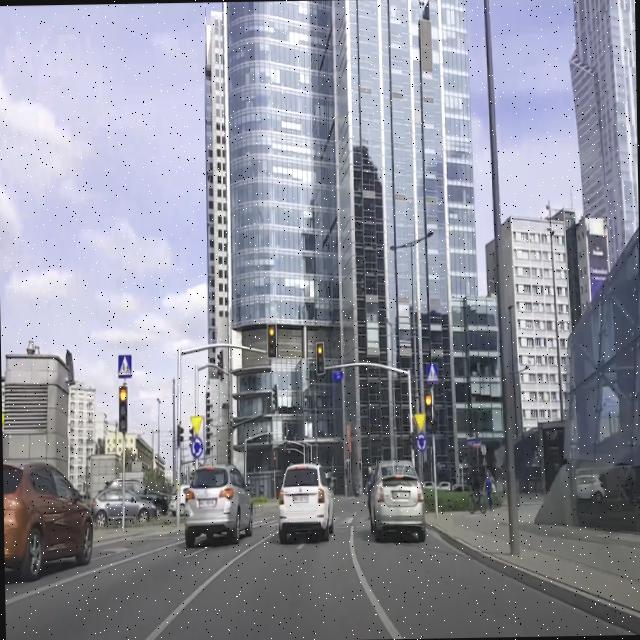Ustap pierwszenstwa: (412, 412, 427, 432), (190, 415, 203, 434)
